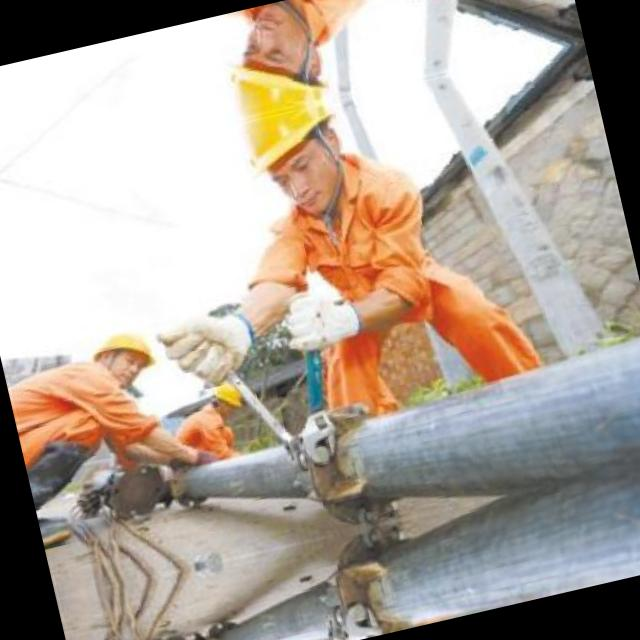helmet: (227, 97, 371, 237), (202, 0, 345, 120), (79, 315, 166, 394), (200, 372, 251, 416)
